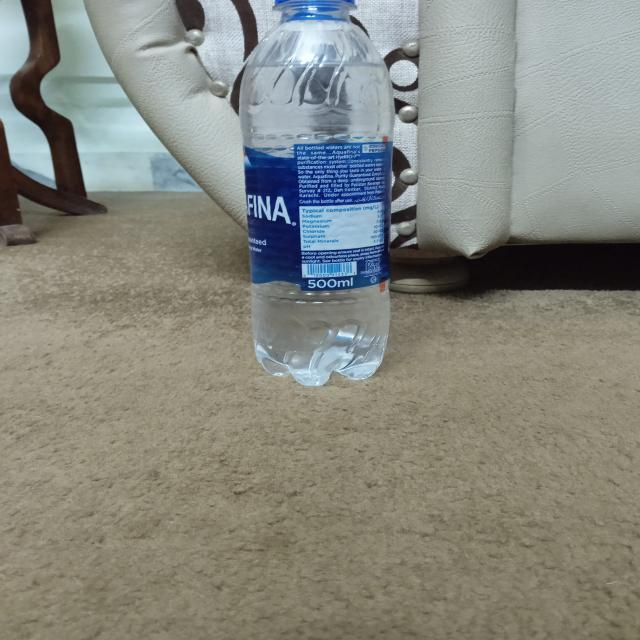Plastic: (236, 0, 398, 394)
